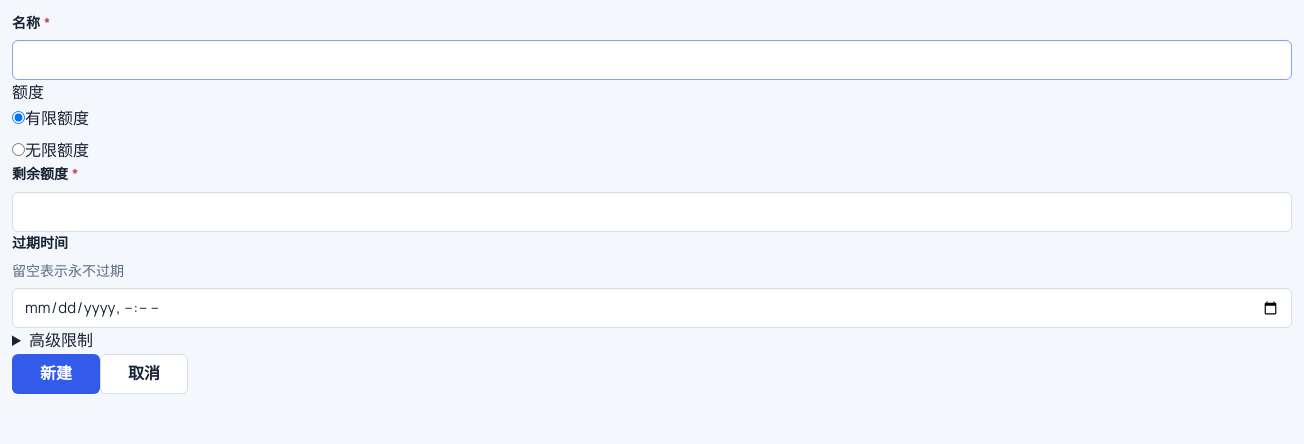
Test: API Key 共享表单 › 额度、期限与模型去重校验
The image size is (1304, 444).
Check: the button "新建" is shown, box top-left (12, 354), bottom-right (100, 394)
Type "probe" into the field labelled "名称" at (652, 60), box top-left (12, 40), bottom-right (1292, 80)
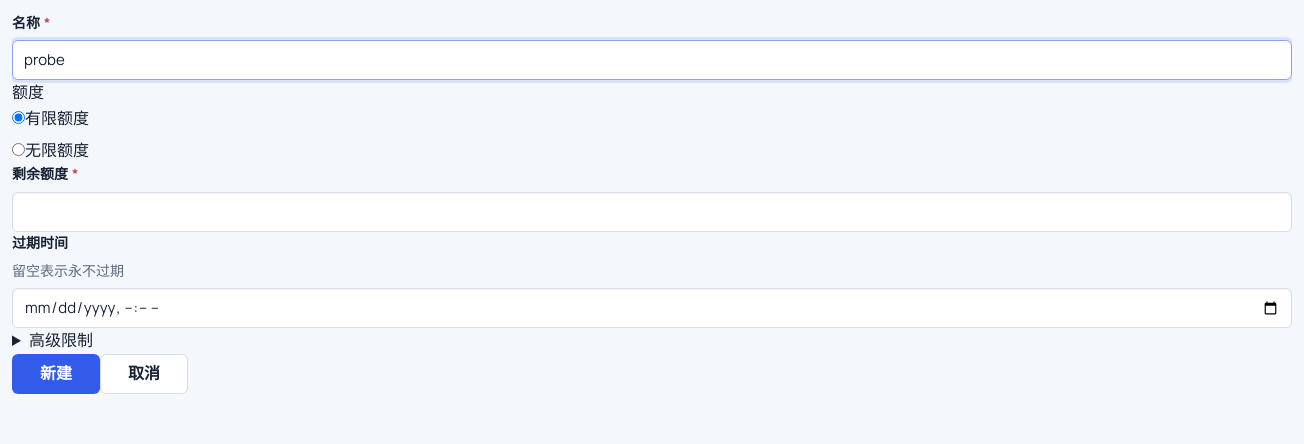
Type "-5" into the field labelled "剩余额度" at (652, 212), box top-left (12, 192), bottom-right (1292, 232)
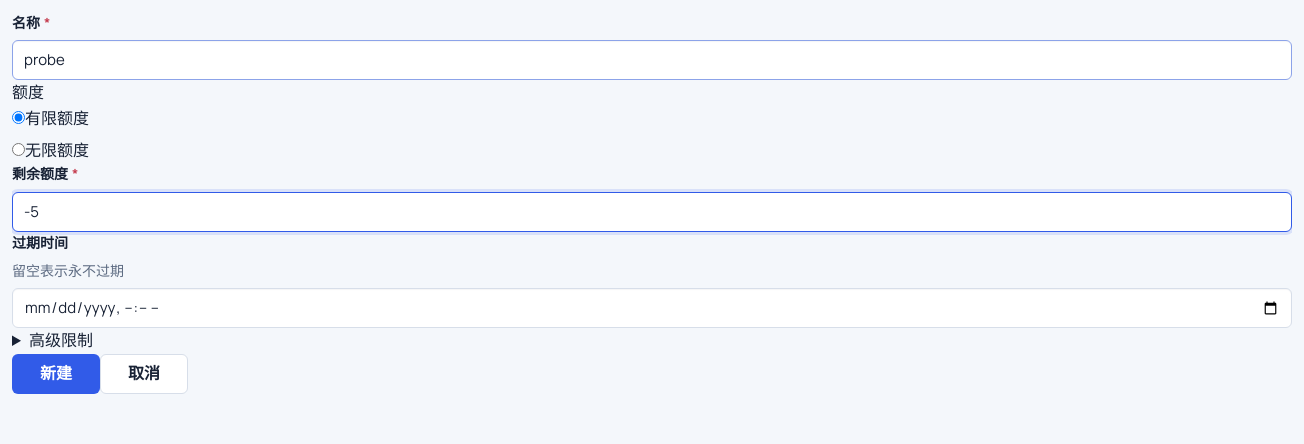
Click the button "新建" at (56, 374), box top-left (12, 354), bottom-right (100, 394)
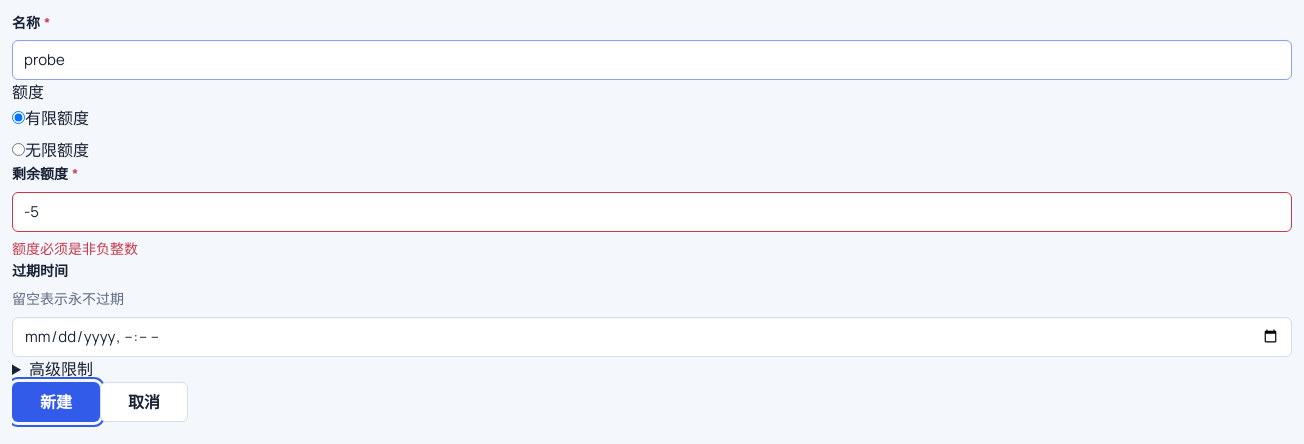
Check: the text "额度必须是非负整数" is shown, box top-left (12, 239), bottom-right (138, 258)
Replace the text in the field labelled "剩余额度" with "100" at (652, 212), box top-left (12, 192), bottom-right (1292, 232)
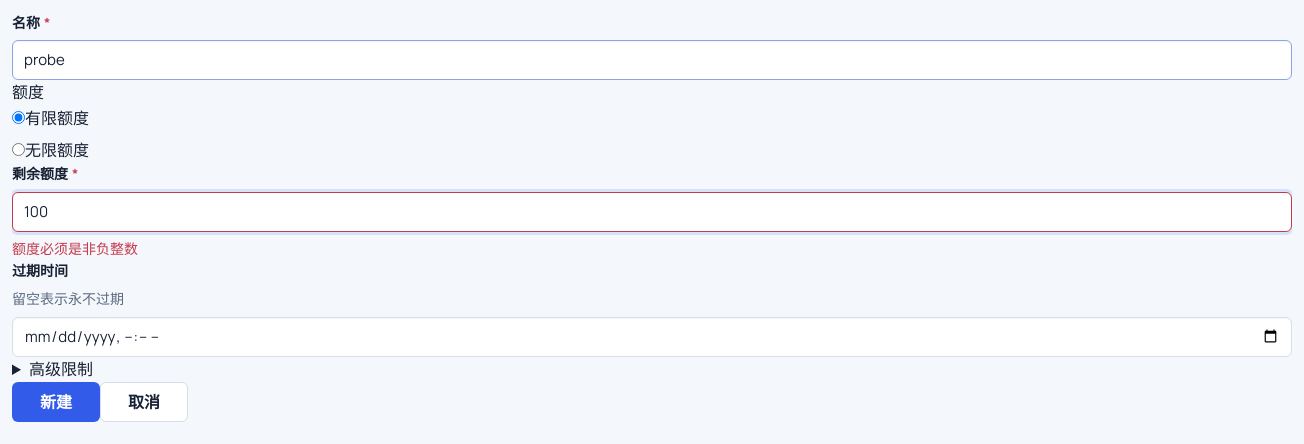
Type "2000-01-01T00:00" into the field labelled "过期时间" at (652, 337), box top-left (12, 317), bottom-right (1292, 357)
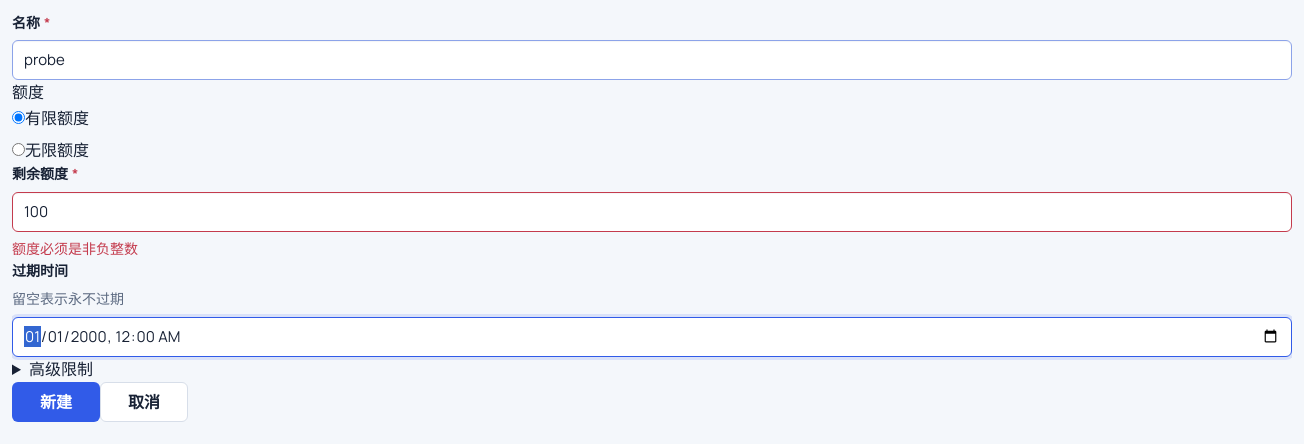
Click the button "新建" at (56, 402), box top-left (12, 382), bottom-right (100, 422)
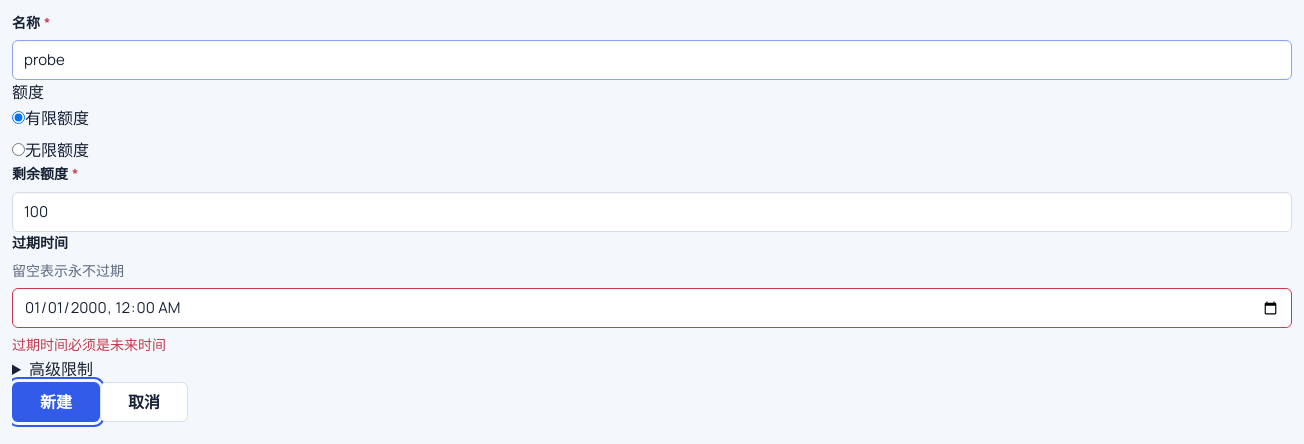
Check: the text "过期时间必须是未来时间" is shown, box top-left (12, 335), bottom-right (166, 354)
